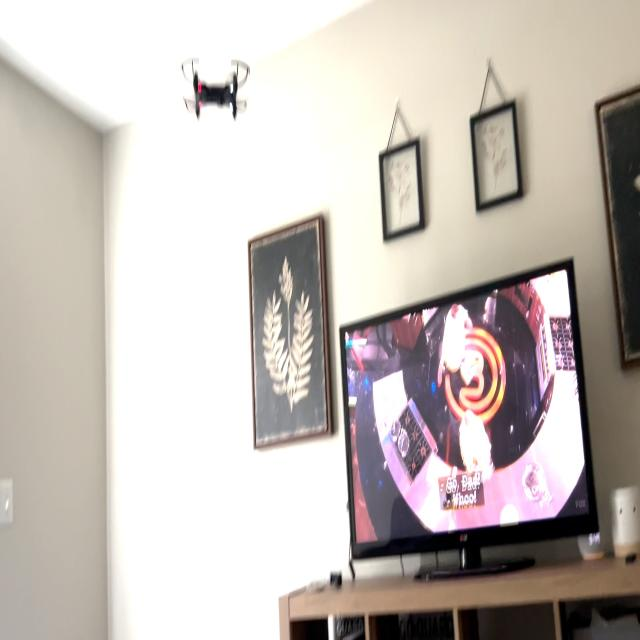drone: (175, 44, 259, 134)
